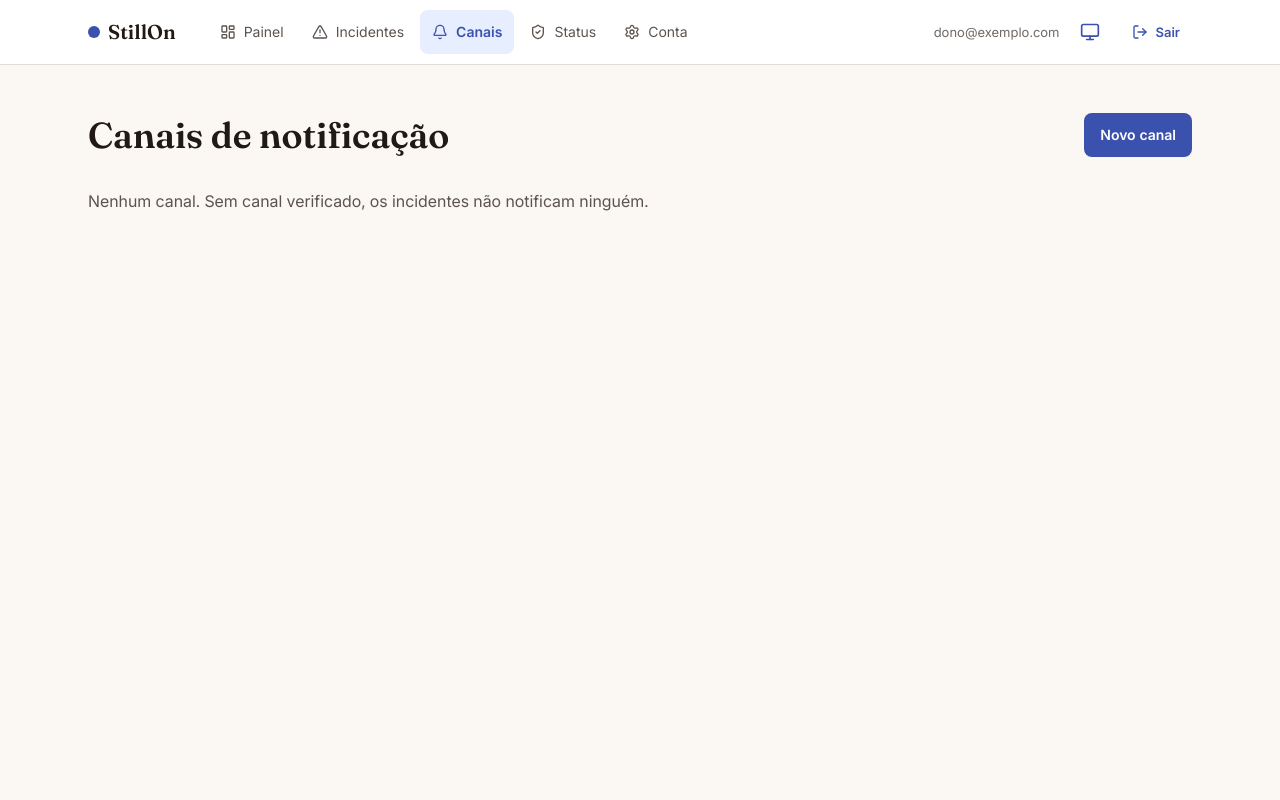
Test: canais › cadastrar Discord verifica com a mensagem de teste
Click the button "Novo canal": (1138, 135) [1084,113,1192,157]
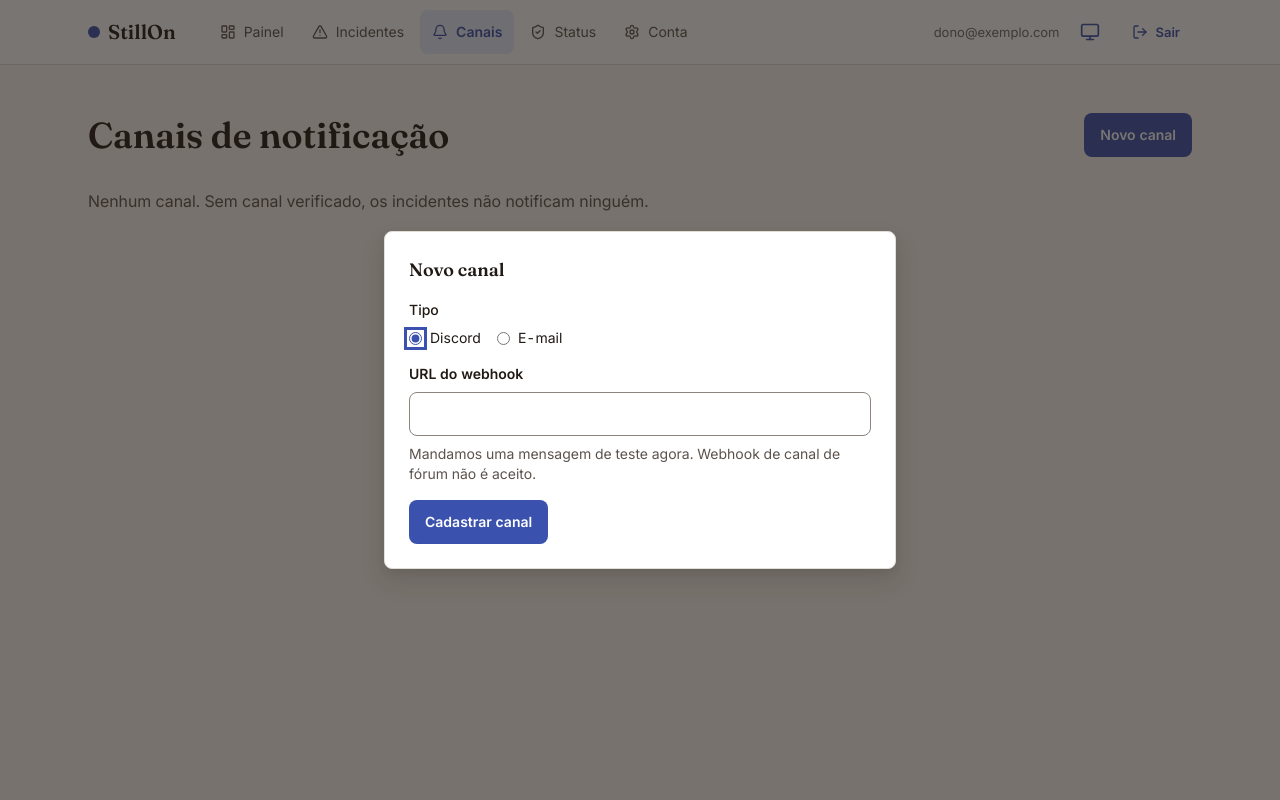
Check: the text "Webhook de canal de fórum não é aceito" is shown, box [409,445,840,482]
In the field labelled "URL do webhook": (640, 414) [409,392,871,436], type "https://discord.com/api/webhooks/1/abc"
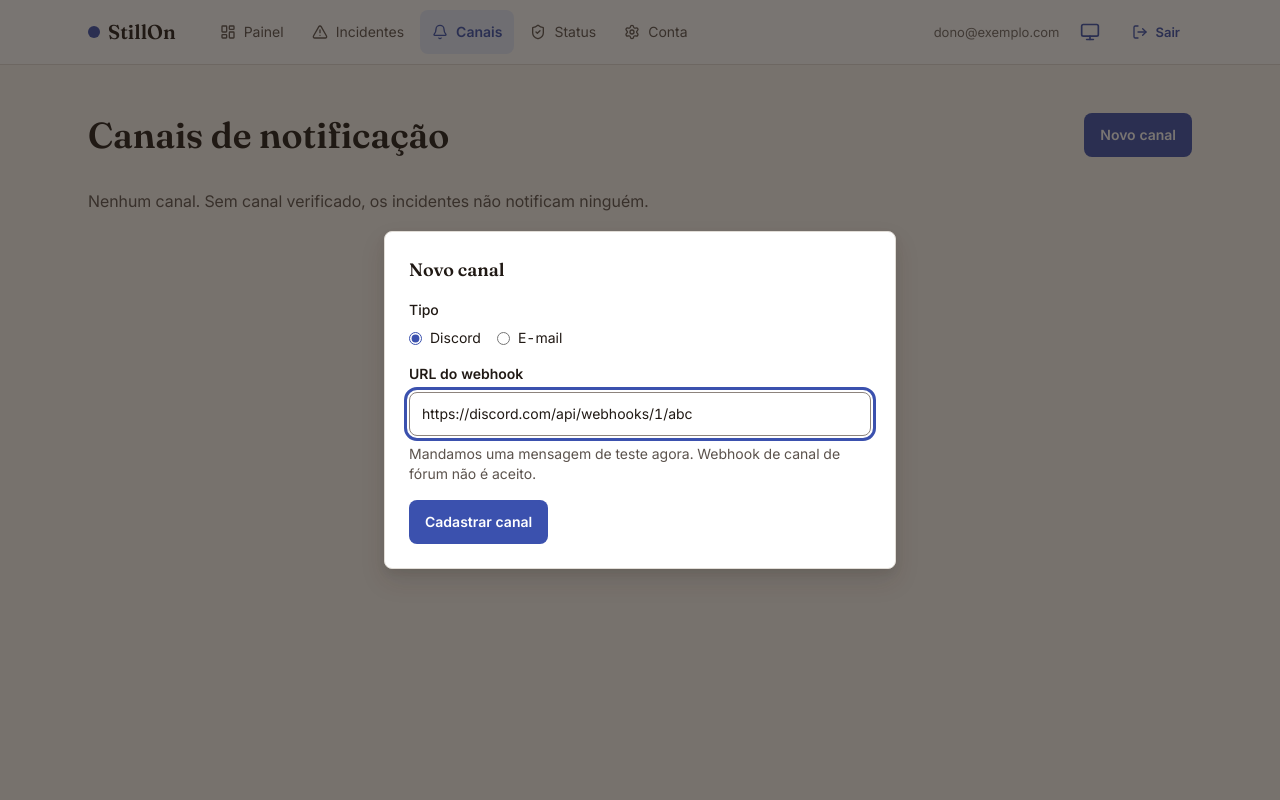
Click the button "Cadastrar canal": (479, 522) [409,500,548,544]
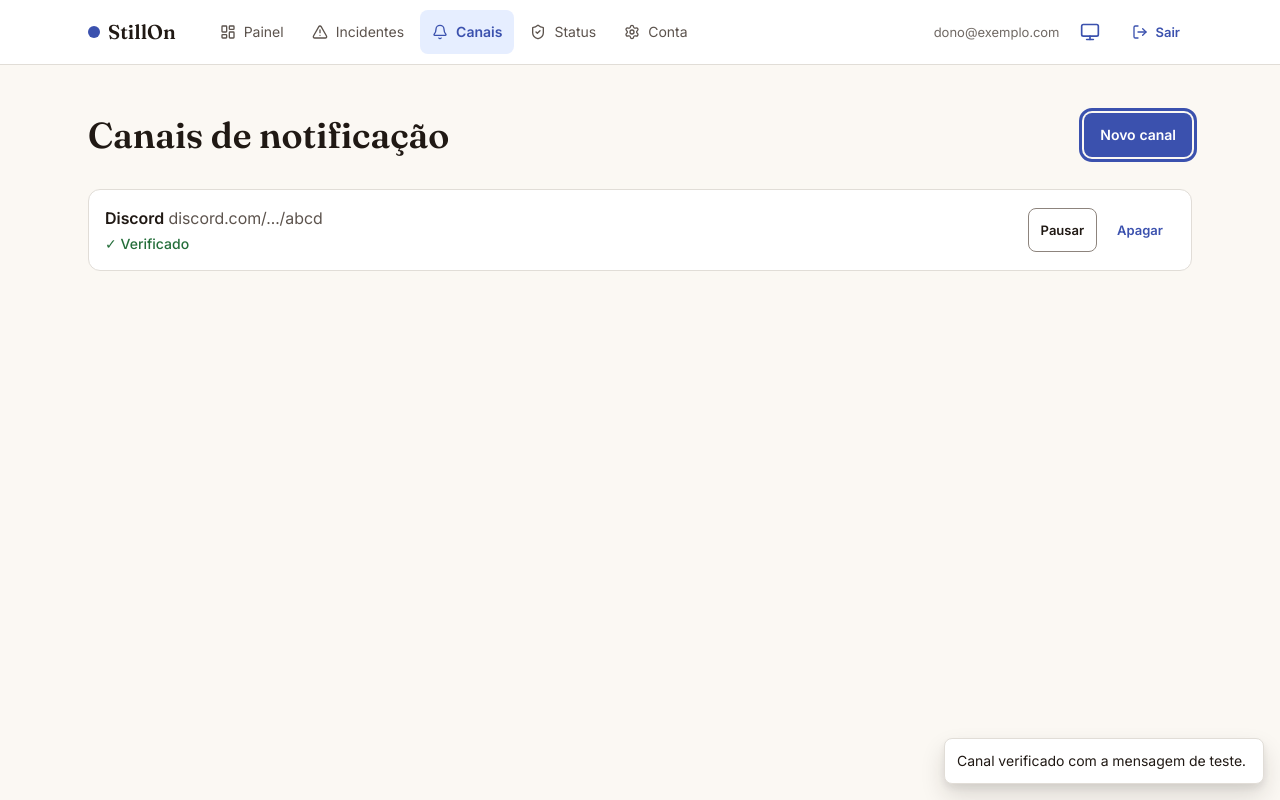
Check: the dialog is gone
Check: the text "Canal verificado com a mensagem de teste." is shown, box [957,751,1251,771]
